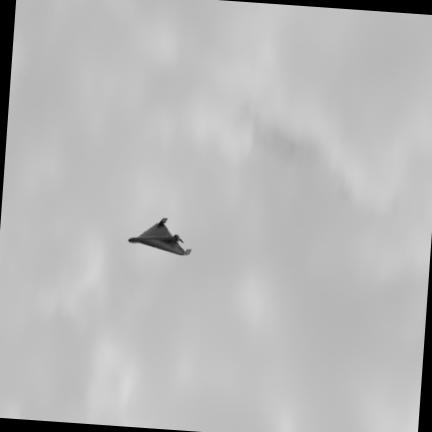Shahed: (128, 218, 190, 254)
